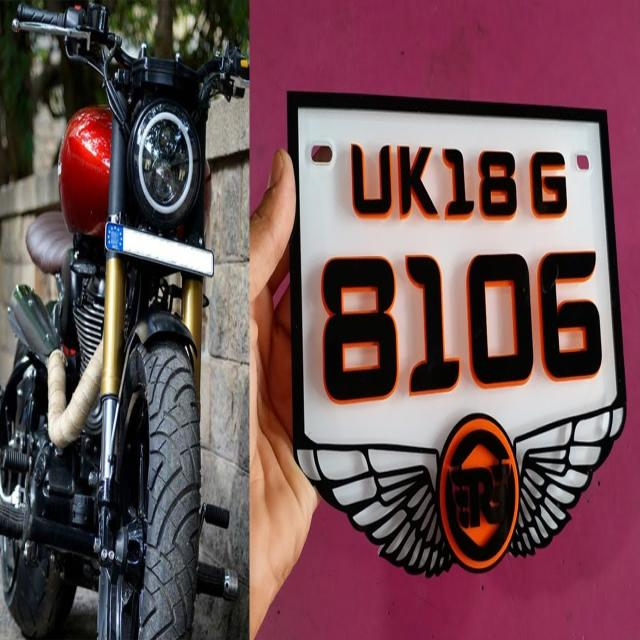license_plate: (287, 88, 627, 576)
